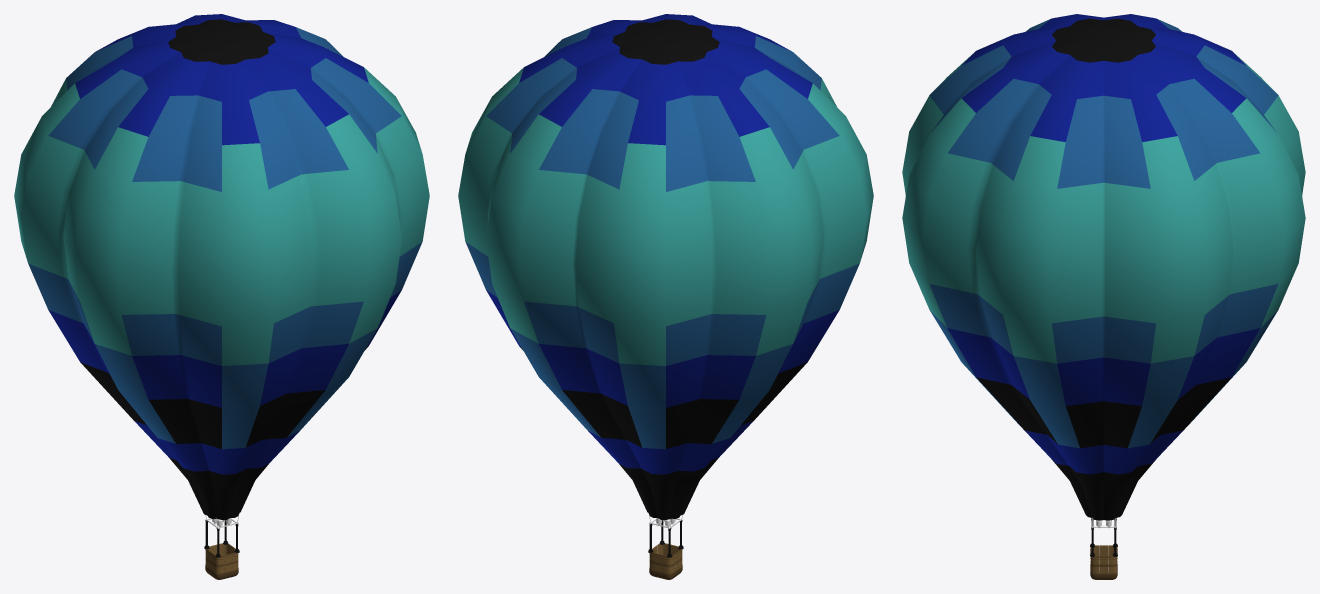
The model's file is blue.glb.
3 renders of one model, left to right at view 1: azimuth 30°, elevation 25°; view 2: azimuth 150°, elevation 25°; view 3: azimuth 270°, elevation 25°, orthographic.
Visible parts, largest first — view 1: Sphere, Circle; view 2: Sphere, Circle; view 3: Sphere, Circle.
Boxes of the visible parts, x1,y1,x2,y2 form: Sphere: (14,14,429,519); Circle: (204,515,239,579); Sphere: (458,14,873,519); Circle: (648,515,683,579); Sphere: (902,14,1305,520); Circle: (1090,517,1117,579).
Bounding box in the file's own units: 22.42 × 33.16 × 22.42.
